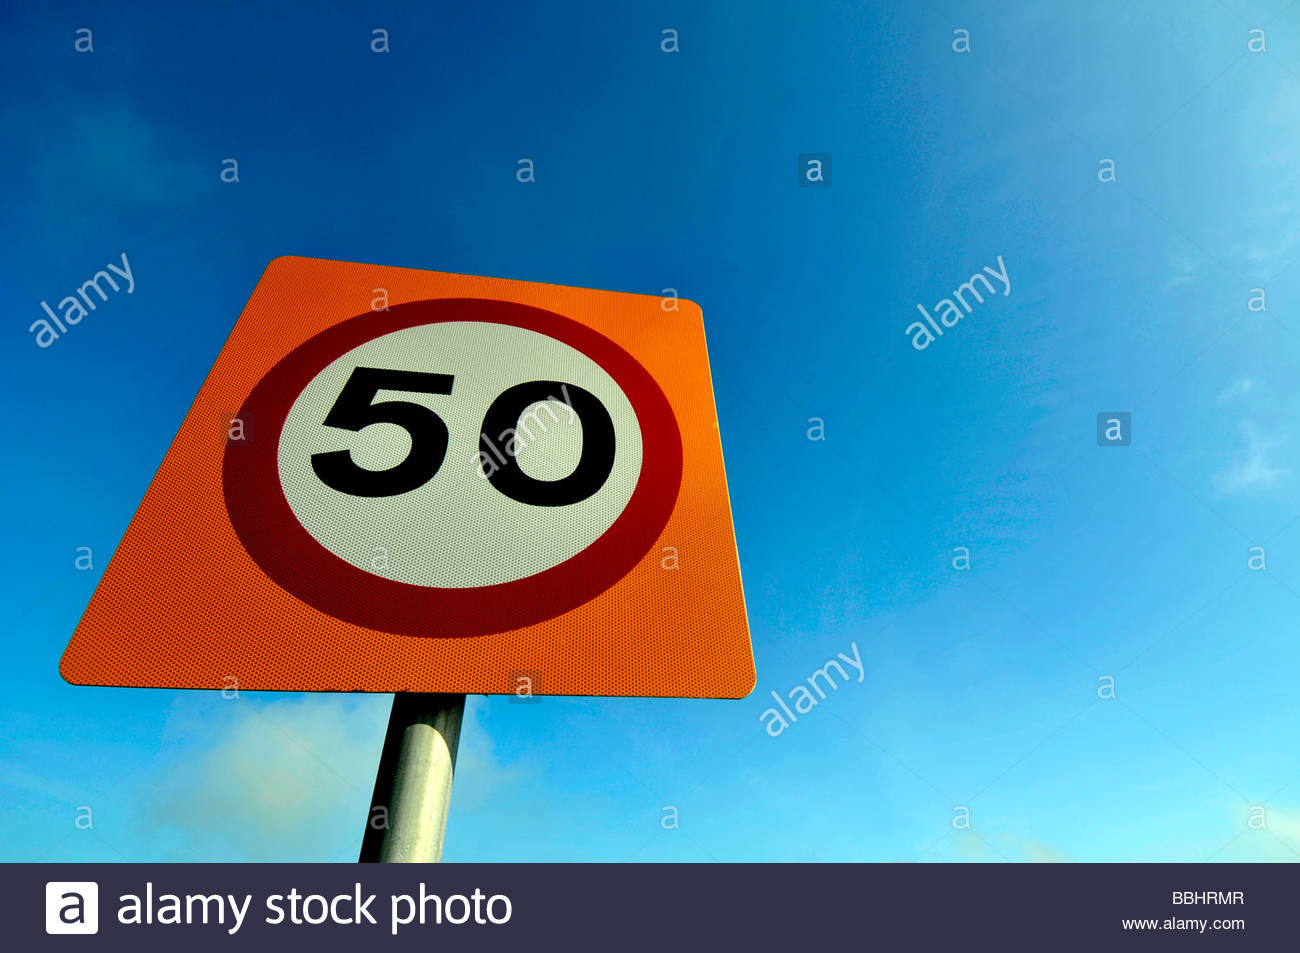Speed_limit_50km: (226, 297, 688, 640)
